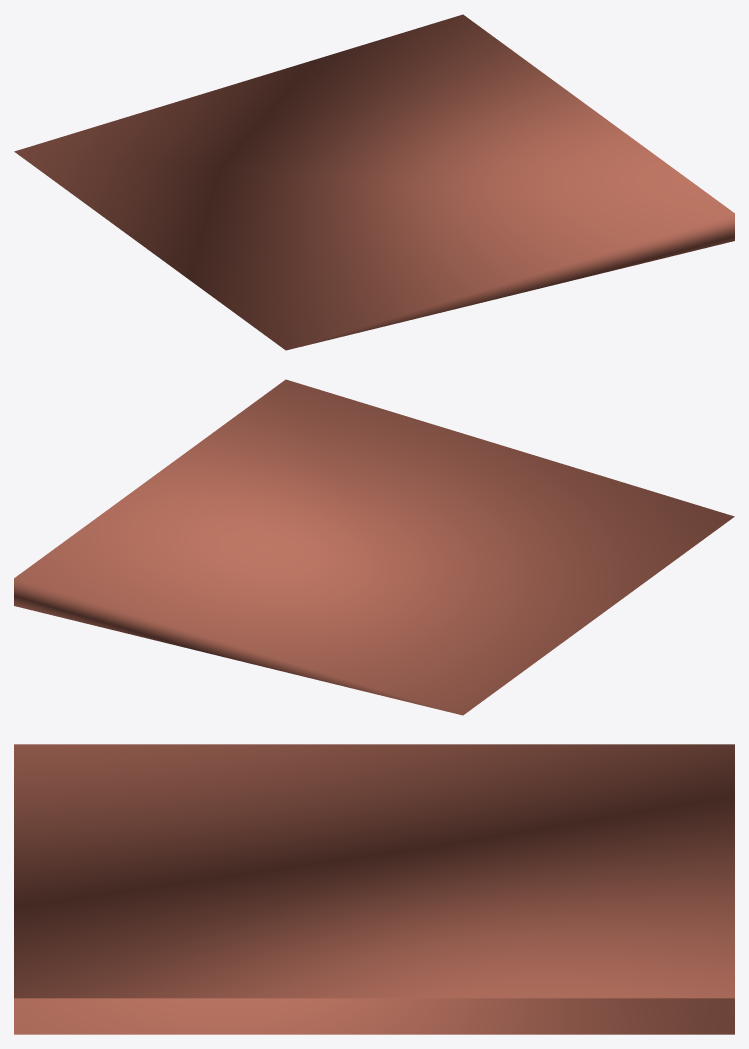
File: bidge_start.fbx
3 renders of one model, top to bottom at view 1: azimuth 30°, elevation 25°; view 2: azimuth 150°, elevation 25°; view 3: azimuth 270°, elevation 25°, orthographic. The views are drawn at different scales.
Visible parts, largest first — view 1: bridge_tile_start; view 2: bridge_tile_start; view 3: bridge_tile_start.
Boxes of the visible parts, x1=… form: bridge_tile_start: x1=14, y1=14, x2=734, y2=350; bridge_tile_start: x1=14, y1=379, x2=734, y2=715; bridge_tile_start: x1=14, y1=744, x2=734, y2=1034.
Size of the model in its own units: 1330 by 77.98 by 1395.
